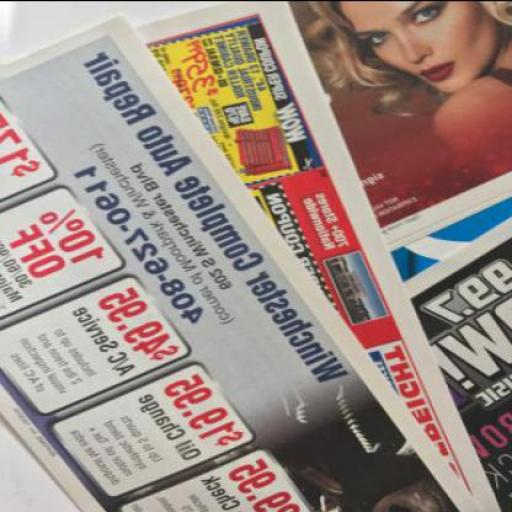paper: (0, 12, 480, 511), (130, 1, 500, 511), (288, 1, 511, 512)
